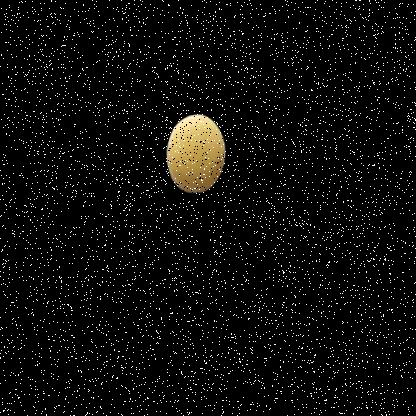rabeparzole20: (153, 97, 241, 224)
